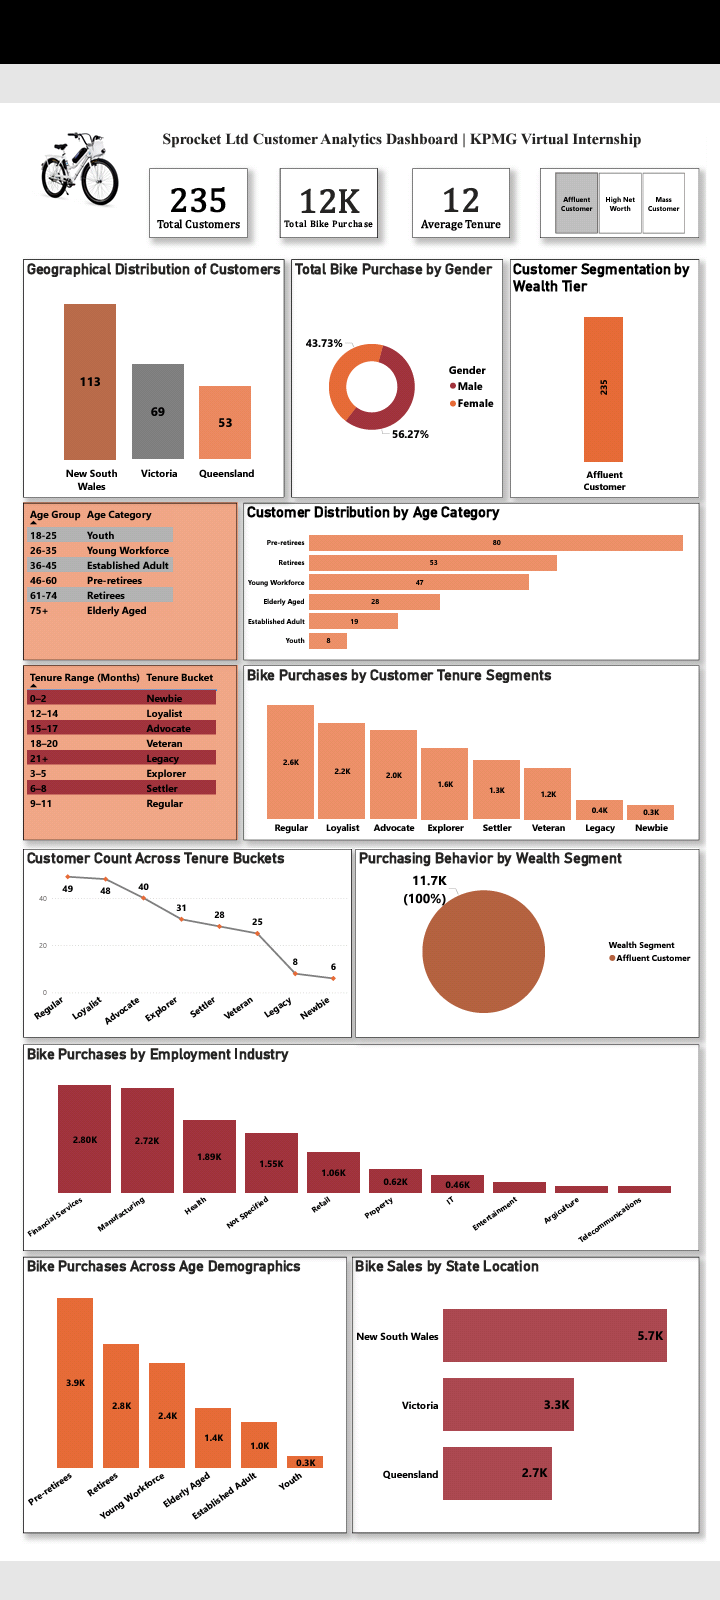

This screenshot's page, from the dashboard's own definition file:
{"tool":"powerbi","page":{"name":"Page 1","canvas":[1200,2480],"ordinal":0},"visuals":[{"type":"card","fields":{"Values":["Cleaned New Customer List.Total Customers"]},"box":[235,89,170,121],"z":0},{"type":"donutChart","fields":{"Category":["Cleaned New Customer List.Gender"],"Y":["Cleaned New Customer List.Total Bike Purcshase"]},"box":[481,247,367,413],"z":1000},{"type":"card","fields":{"Values":["Cleaned New Customer List.Total Bike Purcshase"]},"box":[461,89,170,121],"z":2000},{"type":"columnChart","title":"Customer Segmentation by Wealth Tier","fields":{"Y":["CountNonNull(Cleaned New Customer List.Customer's Name)"],"Category":["Cleaned New Customer List.Wealth Segment"]},"box":[860,247,328,413],"z":3000},{"type":"barChart","title":"Customer Distribution by Age Category","fields":{"Y":["CountNonNull(Cleaned New Customer List.Customer's Name)"],"Category":["Cleaned New Customer List.Age Category"]},"box":[398,669,790,273],"z":4000},{"type":"card","fields":{"Values":["Cleaned New Customer List.Average Tenure"]},"box":[691,89,169,121],"z":5000},{"type":"columnChart","title":"Geographical Distribution of Customers","fields":{"Y":["CountNonNull(Cleaned New Customer List.Customer's Name)"],"Category":["Cleaned New Customer List.State"]},"box":[16,247,453,413],"z":6000},{"type":"clusteredColumnChart","title":"Bike Purchases by Customer Tenure Segments","fields":{"Category":["Cleaned New Customer List.Tenure Bucket"],"Y":["Cleaned New Customer List.Total Bike Purchase"]},"box":[398,951,790,303],"z":7000},{"type":"lineChart","title":"Customer Count Across Tenure Buckets","fields":{"Y":["CountNonNull(Cleaned New Customer List.Customer's Name)"],"Category":["Cleaned New Customer List.Tenure Bucket"]},"box":[16,1269,570,327],"z":8000},{"type":"barChart","title":"Bike Sales by State Location","fields":{"Category":["Cleaned New Customer List.State"],"Y":["Sum(Cleaned New Customer List.Past 3 Years Bike Related Purchases)"]},"box":[586,1976,602,479],"z":9000},{"type":"clusteredColumnChart","title":"Bike Purchases Across Age Demographics","fields":{"Category":["Cleaned New Customer List.Age Category"],"Y":["Cleaned New Customer List.Total Bike Purchase"]},"box":[16,1976,561,479],"z":10000},{"type":"columnChart","title":"Bike Purchases by Employment Industry","fields":{"Category":["Cleaned New Customer List.Job Industry Category"],"Y":["Cleaned New Customer List.Total Bike Purchase"]},"box":[16,1608,1172,358],"z":11000},{"type":"textbox","box":[170,18,1005,47],"z":12000},{"type":"image","box":[25,0,179,177],"z":13000},{"type":"pieChart","title":"Purchasing Behavior by Wealth Segment","fields":{"Category":["Cleaned New Customer List.Wealth Segment"],"Y":["Cleaned New Customer List.Total Bike Purchase"]},"box":[592,1269,596,327],"z":14000},{"type":"slicer","fields":{"Values":["Cleaned New Customer List.Wealth Segment"]},"box":[912,89,276,121],"z":15000},{"type":"tableEx","fields":{"Values":["Cleaned New Customer List.Age Group","Cleaned New Customer List.Age Category"]},"box":[16,669,371,273],"z":16000},{"type":"tableEx","fields":{"Values":["Cleaned New Customer List.Tenure Range (Months)","Cleaned New Customer List.Tenure Bucket"]},"box":[16,951,371,303],"z":17000}]}

Visuals, with their boxes in screenshot pixels (x1, y1, x2, y2):
card - Cleaned New Customer List.Total Customers: <box>151,180,248,249</box>
donutChart - Cleaned New Customer List.Gender x Cleaned New Customer List.Total Bike Purcshase: <box>292,270,501,506</box>
card - Cleaned New Customer List.Total Bike Purcshase: <box>280,180,377,249</box>
"Customer Segmentation by Wealth Tier" columnChart: <box>508,270,695,506</box>
"Customer Distribution by Age Category" barChart: <box>244,511,695,667</box>
card - Cleaned New Customer List.Average Tenure: <box>412,180,508,249</box>
"Geographical Distribution of Customers" columnChart: <box>26,270,285,506</box>
"Bike Purchases by Customer Tenure Segments" clusteredColumnChart: <box>244,673,695,846</box>
"Customer Count Across Tenure Buckets" lineChart: <box>26,854,352,1041</box>
"Bike Sales by State Location" barChart: <box>352,1258,695,1532</box>
"Bike Purchases Across Age Demographics" clusteredColumnChart: <box>26,1258,346,1532</box>
"Bike Purchases by Employment Industry" columnChart: <box>26,1048,695,1253</box>
textbox: <box>114,139,688,166</box>
image: <box>31,129,133,230</box>
"Purchasing Behavior by Wealth Segment" pieChart: <box>355,854,695,1041</box>
slicer - Cleaned New Customer List.Wealth Segment: <box>538,180,695,249</box>
tableEx - Cleaned New Customer List.Age Group x Cleaned New Customer List.Age Category: <box>26,511,238,667</box>
tableEx - Cleaned New Customer List.Tenure Range (Months) x Cleaned New Customer List.Tenure Bucket: <box>26,673,238,846</box>
